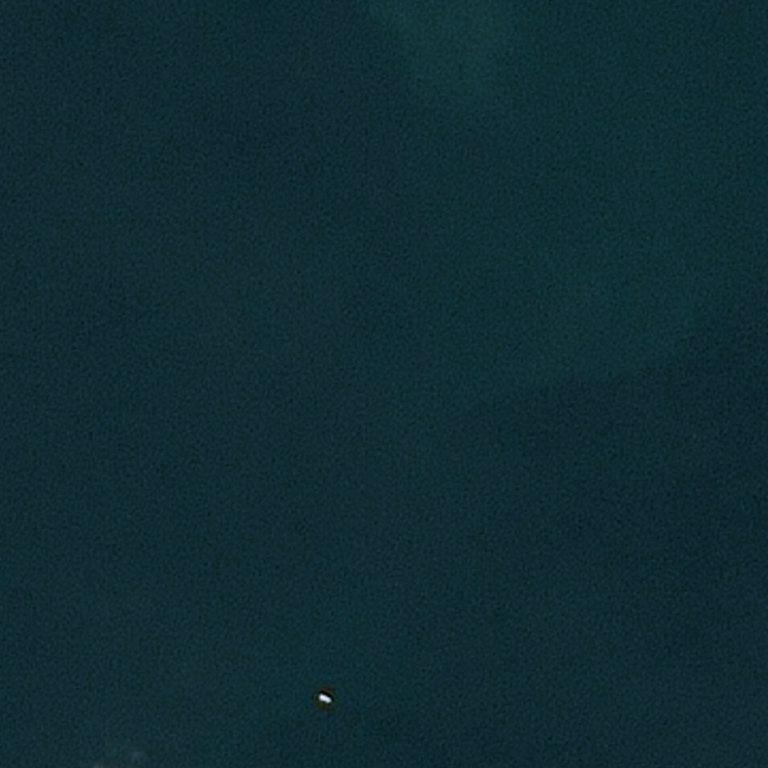ship: (317, 691, 332, 706), (328, 700, 330, 702), (318, 697, 320, 699), (320, 691, 321, 693)
